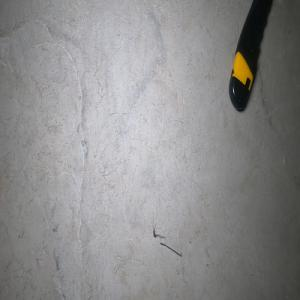Cutter: (228, 0, 272, 112)
